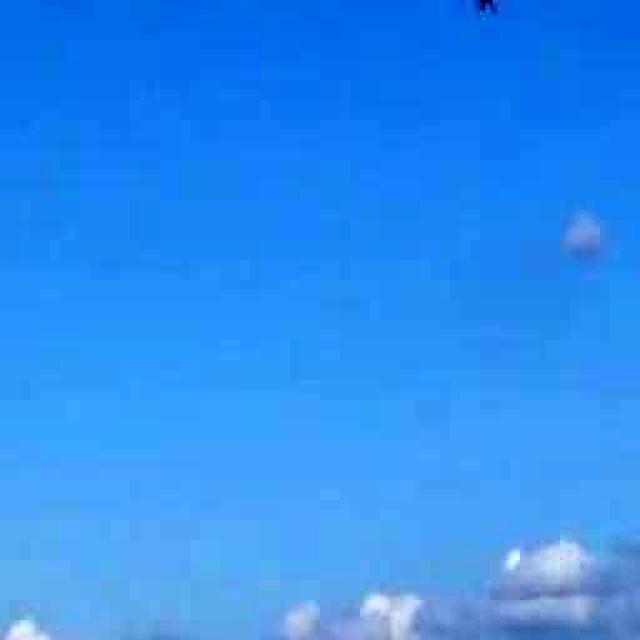bird: (448, 0, 525, 59)
